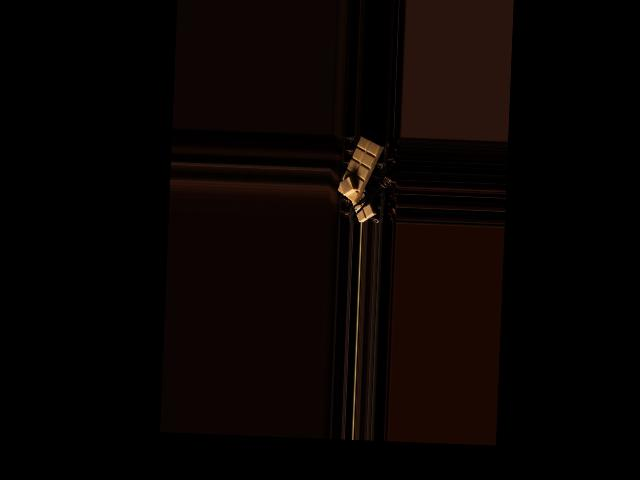chocolate: (337, 136, 382, 205)
